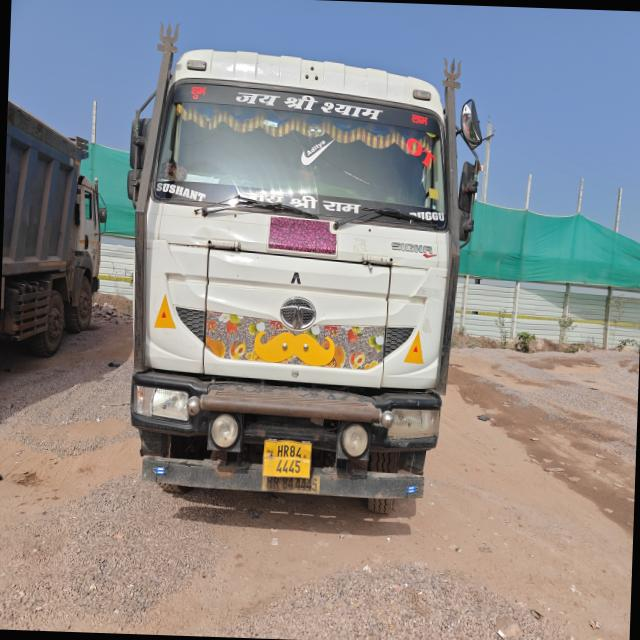license_plate: (263, 441, 311, 478), (263, 475, 320, 494)
